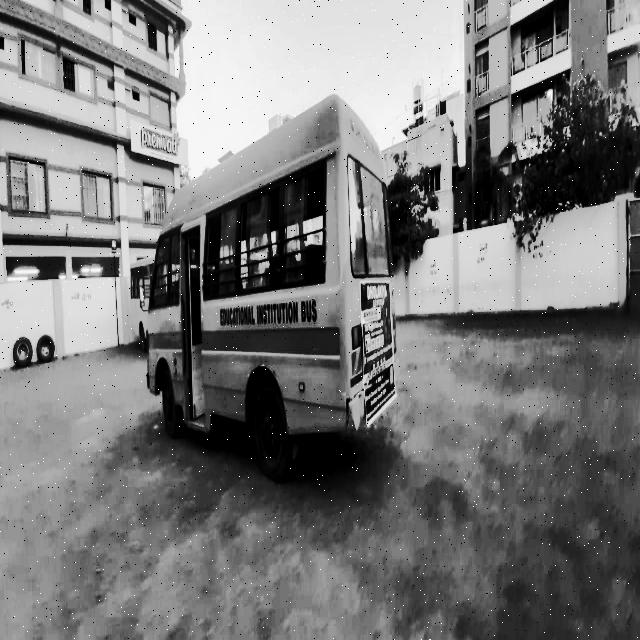Bus: (140, 86, 408, 511)
